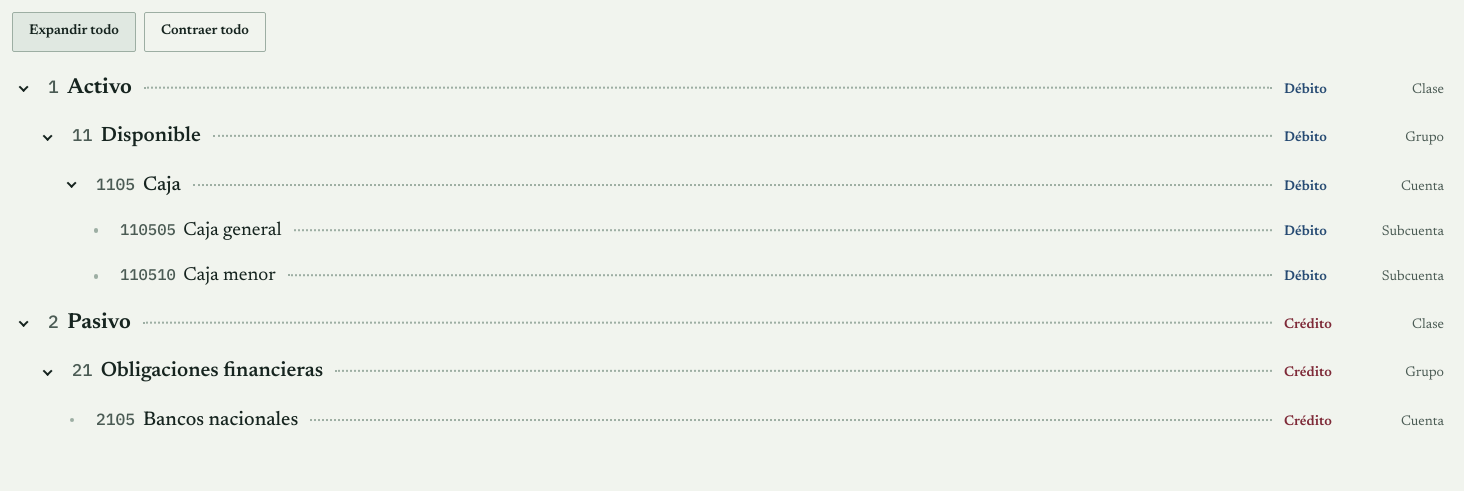
it: AccountTree › selection › selects an account when the user clicks it
Click the text "Pasivo": (99, 324) left=67, top=307, right=131, bottom=340
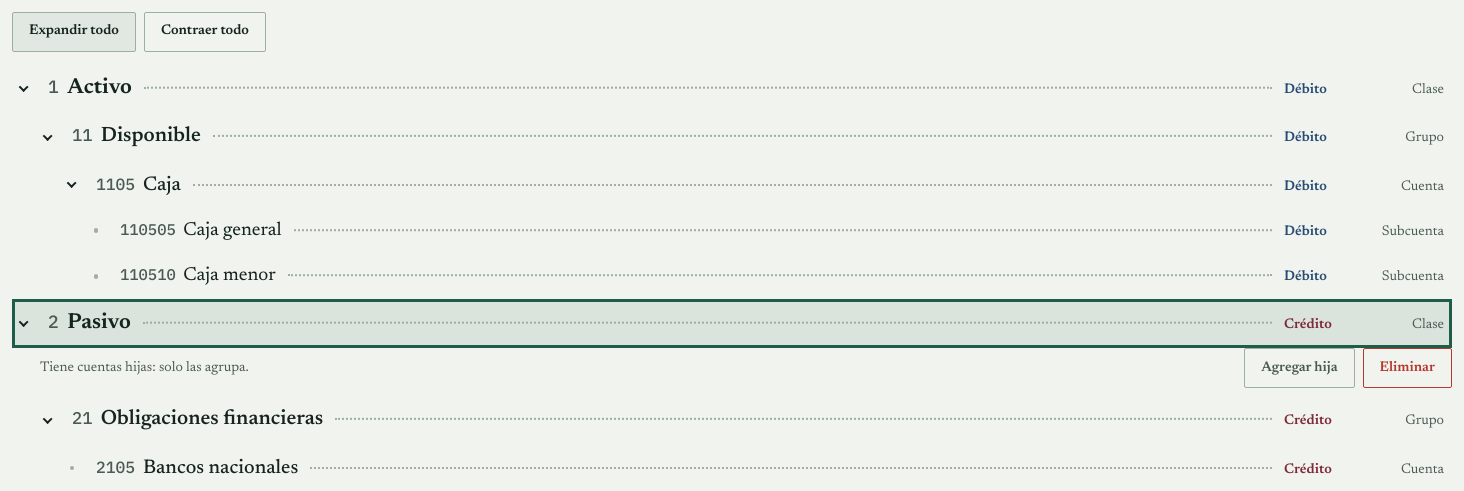
Result: the button with aria-label "Eliminar 2 Pasivo" is shown at left=1363, top=348, right=1452, bottom=388
